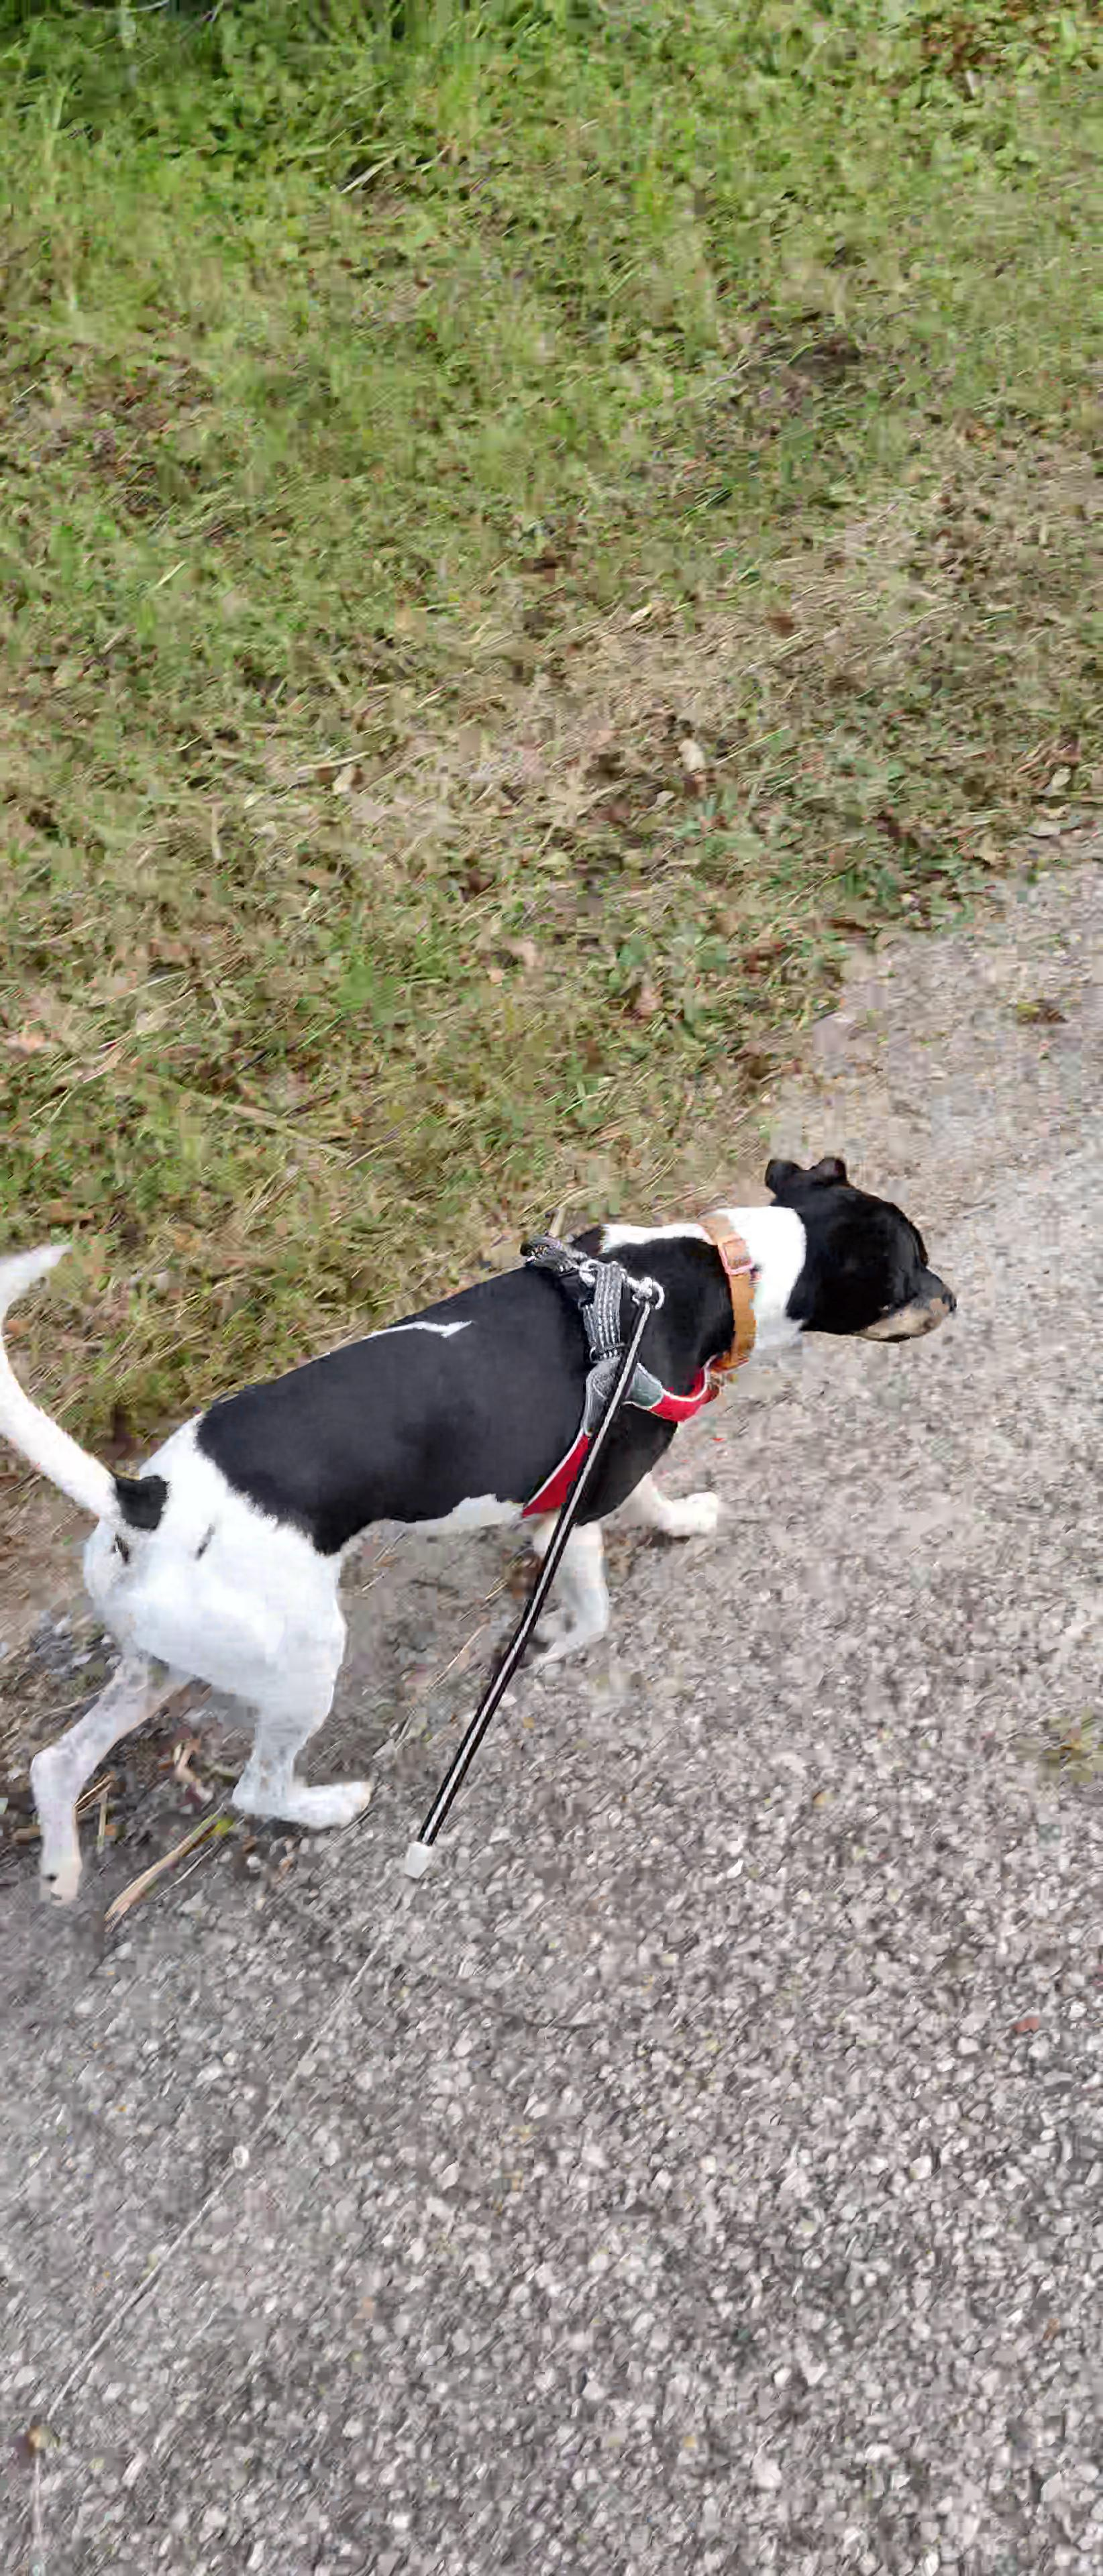Dog: (0, 1148, 970, 1925)
